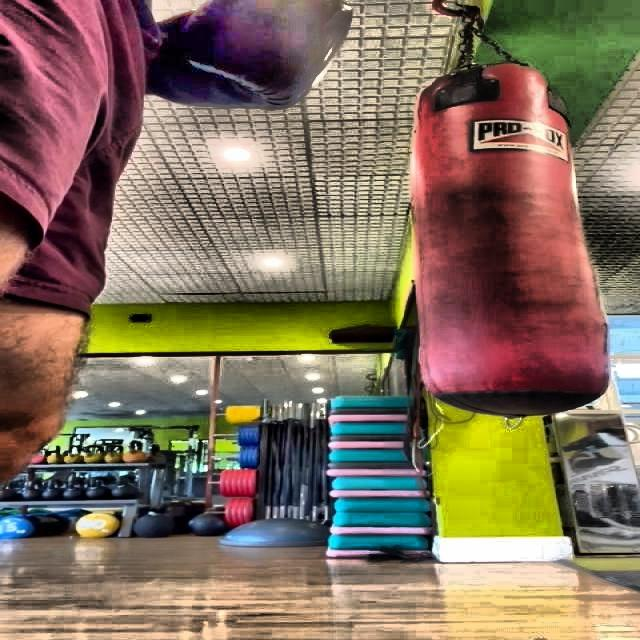boxing-bag: (415, 3, 608, 420)
